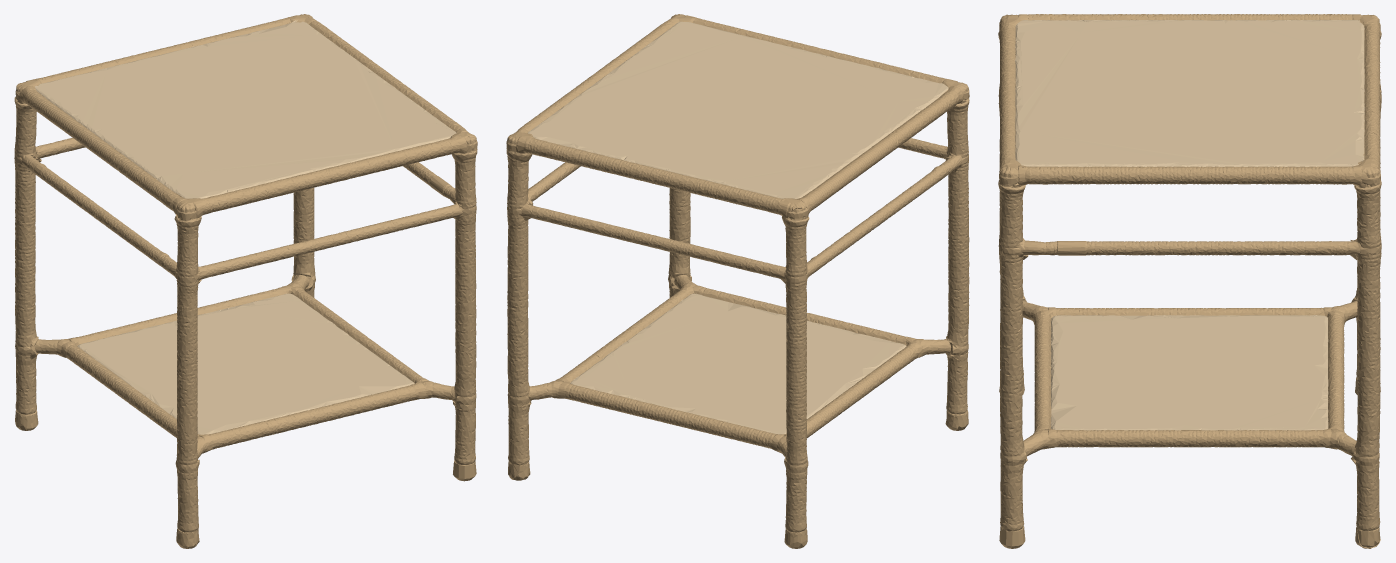
3 views of the same model, side by side, from view 1: azimuth 30°, elevation 25°; view 2: azimuth 150°, elevation 25°; view 3: azimuth 270°, elevation 25° (orthographic). The views are drawn at different scales.
Parts seen in each view (by area): view 1: SideTable_Inset_part11, SideTable_ShelfPanel_part5, SideTable_Stretcher_part4, SideTable_Rim_part15, SideTable_Stretcher_part3, SideTable_Leg_part7, SideTable_Leg_part0, SideTable_Leg_part13, SideTable_Rim_part12, SideTable_Leg_part14; view 2: SideTable_Inset_part11, SideTable_ShelfPanel_part5, SideTable_Stretcher_part4, SideTable_Rim_part15, SideTable_Stretcher_part3, SideTable_Leg_part13, SideTable_Leg_part14, SideTable_Leg_part0, SideTable_Rim_part12, SideTable_Leg_part7; view 3: SideTable_Inset_part11, SideTable_ShelfPanel_part5, SideTable_Rim_part15, SideTable_Stretcher_part4, SideTable_Leg_part14, SideTable_Leg_part7, SideTable_Stretcher_part3, SideTable_Rim_part12.
Boxes of the visible parts, x1,y1,x2,y2 form: SideTable_Inset_part11: (35, 20, 456, 198); SideTable_ShelfPanel_part5: (77, 293, 414, 434); SideTable_Stretcher_part4: (35, 275, 454, 458); SideTable_Rim_part15: (16, 14, 477, 220); SideTable_Stretcher_part3: (21, 138, 462, 280); SideTable_Leg_part7: (452, 150, 477, 481); SideTable_Leg_part0: (174, 214, 201, 532); SideTable_Leg_part13: (14, 90, 41, 414); SideTable_Rim_part12: (20, 86, 121, 163); SideTable_Leg_part14: (291, 188, 315, 297); SideTable_Inset_part11: (528, 21, 948, 198); SideTable_ShelfPanel_part5: (570, 293, 906, 434); SideTable_Stretcher_part4: (529, 274, 951, 457); SideTable_Rim_part15: (506, 14, 969, 217); SideTable_Stretcher_part3: (520, 138, 962, 280); SideTable_Leg_part13: (781, 207, 809, 532); SideTable_Leg_part14: (506, 149, 533, 477); SideTable_Leg_part0: (945, 98, 969, 414); SideTable_Rim_part12: (797, 134, 896, 213); SideTable_Leg_part7: (668, 188, 691, 297); SideTable_Inset_part11: (1015, 20, 1364, 166); SideTable_ShelfPanel_part5: (1050, 315, 1328, 430); SideTable_Rim_part15: (999, 14, 1380, 186); SideTable_Stretcher_part4: (1022, 300, 1357, 456); SideTable_Leg_part14: (1350, 180, 1381, 547); SideTable_Leg_part7: (998, 180, 1028, 548); SideTable_Stretcher_part3: (1018, 238, 1361, 257); SideTable_Rim_part12: (1162, 14, 1361, 20).
Bounding box in the file's own units: 0.636 × 0.7 × 0.6402.
